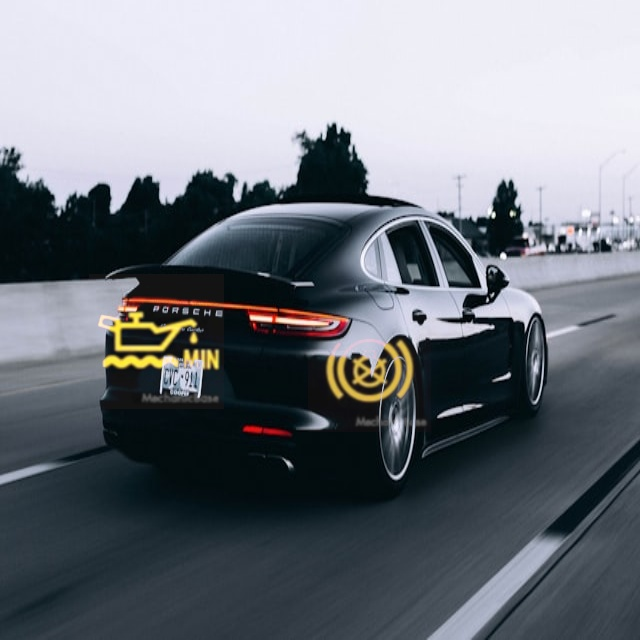symbol: (89, 274, 224, 409), (308, 309, 431, 432)
